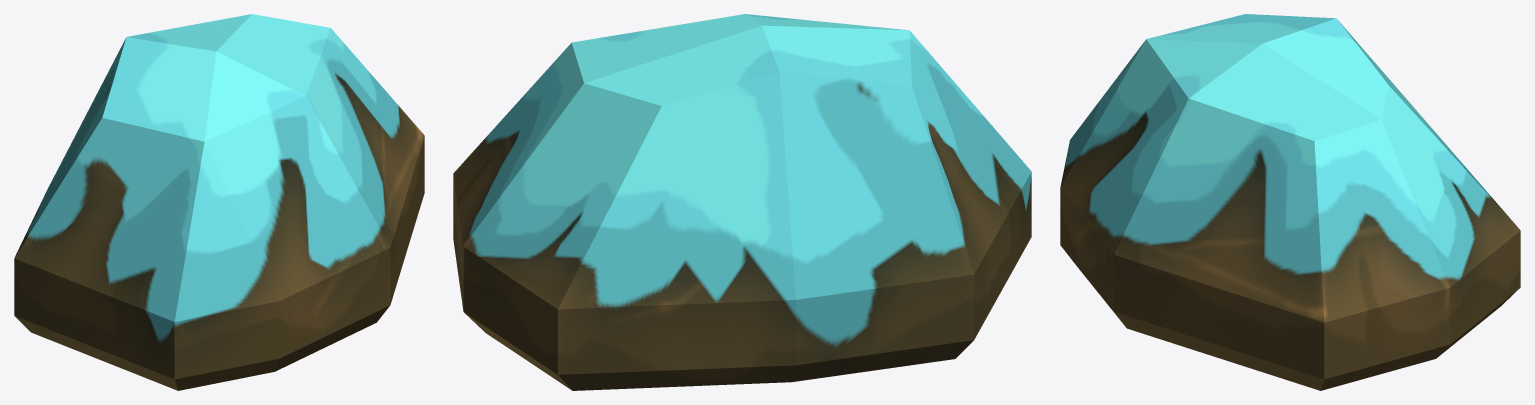
File: SmallRock3.FBX
3 views of the same model, side by side, from view 1: azimuth 30°, elevation 25°; view 2: azimuth 150°, elevation 25°; view 3: azimuth 270°, elevation 25° (orthographic). The views are drawn at different scales.
Parts seen in each view (by area): view 1: Rock3; view 2: Rock3; view 3: Rock3.
Part boxes in pixels (bbox=[...]): Rock3: bbox=[14, 14, 424, 390]; Rock3: bbox=[453, 14, 1031, 390]; Rock3: bbox=[1060, 14, 1520, 390].
Size of the model in its own units: 16.02 by 8.59 by 14.9.
Materials: 1 (1 with a texture image).
